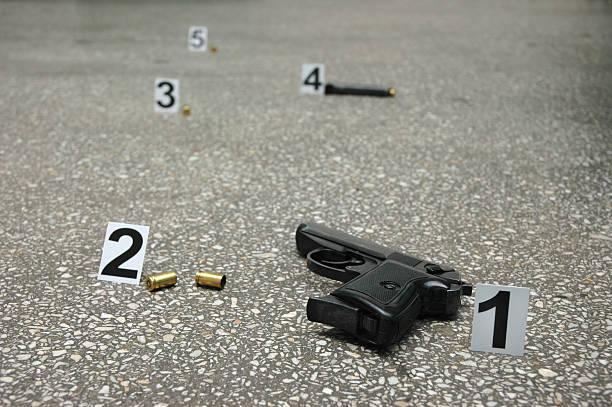weapon: (291, 219, 474, 349)
